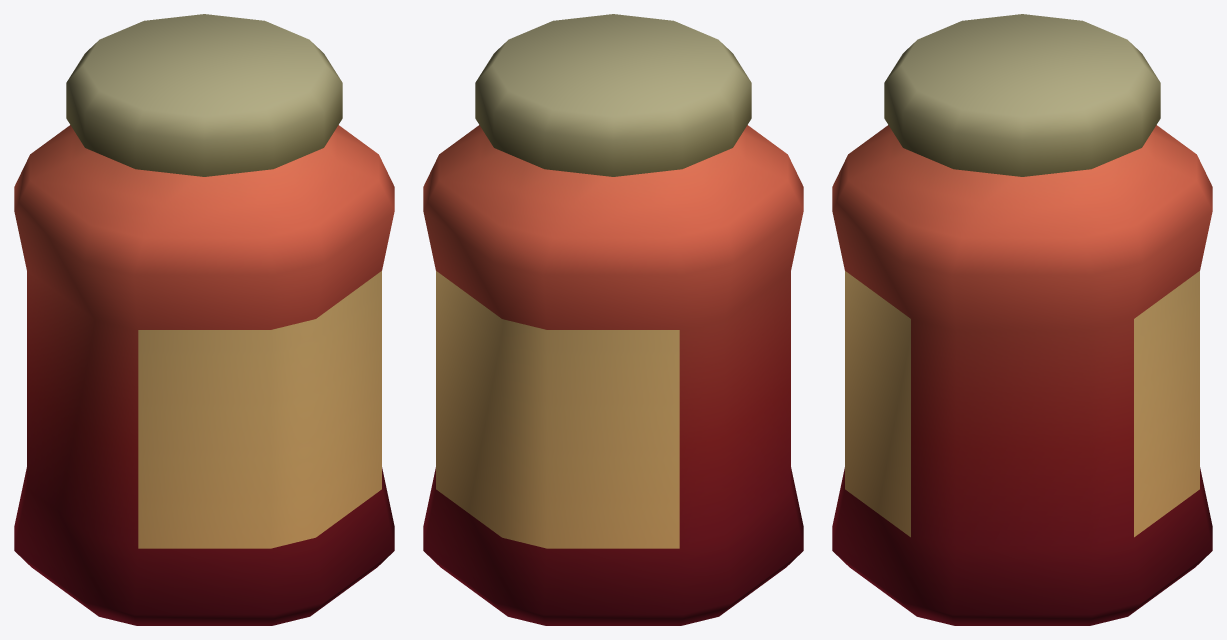
The model's file is Jam_Hex_04.glb.
3 views of the same model, side by side, from view 1: azimuth 30°, elevation 25°; view 2: azimuth 150°, elevation 25°; view 3: azimuth 270°, elevation 25° (orthographic).
Visible parts, largest first — view 1: Jam_Hex_04; view 2: Jam_Hex_04; view 3: Jam_Hex_04.
Part boxes in pixels (left/top/right/bottom): Jam_Hex_04: left=14, top=14, right=394, bottom=625; Jam_Hex_04: left=423, top=14, right=803, bottom=625; Jam_Hex_04: left=832, top=14, right=1212, bottom=625.
Size of the model in its own units: 0.1845 by 0.2802 by 0.196.
Materials: 1 (1 with a texture image).
